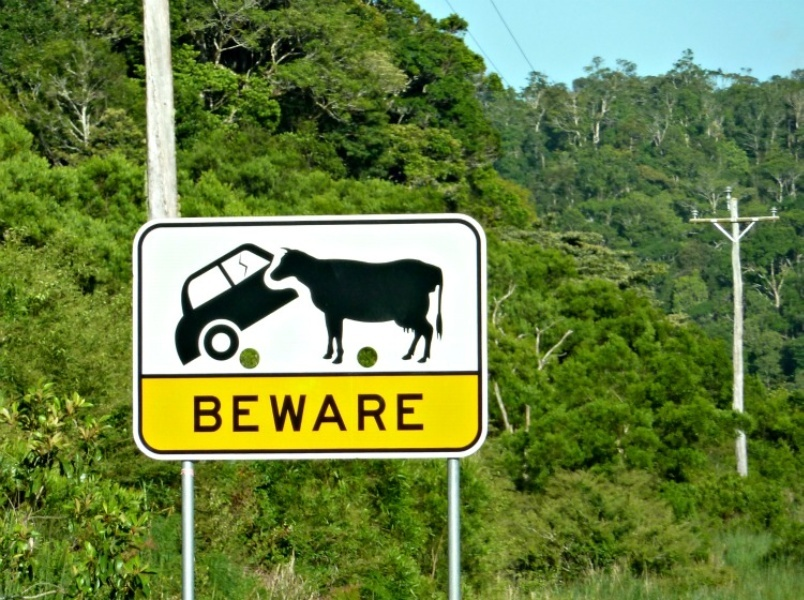text: (193, 393, 208, 434), (209, 393, 224, 434), (225, 393, 240, 434), (241, 393, 256, 434), (257, 393, 272, 434), (273, 393, 288, 434), (289, 393, 304, 434), (305, 393, 320, 434), (321, 393, 336, 434), (337, 393, 352, 434), (353, 393, 368, 434), (369, 393, 384, 434), (385, 393, 400, 434), (401, 393, 416, 434), (417, 393, 426, 434)
